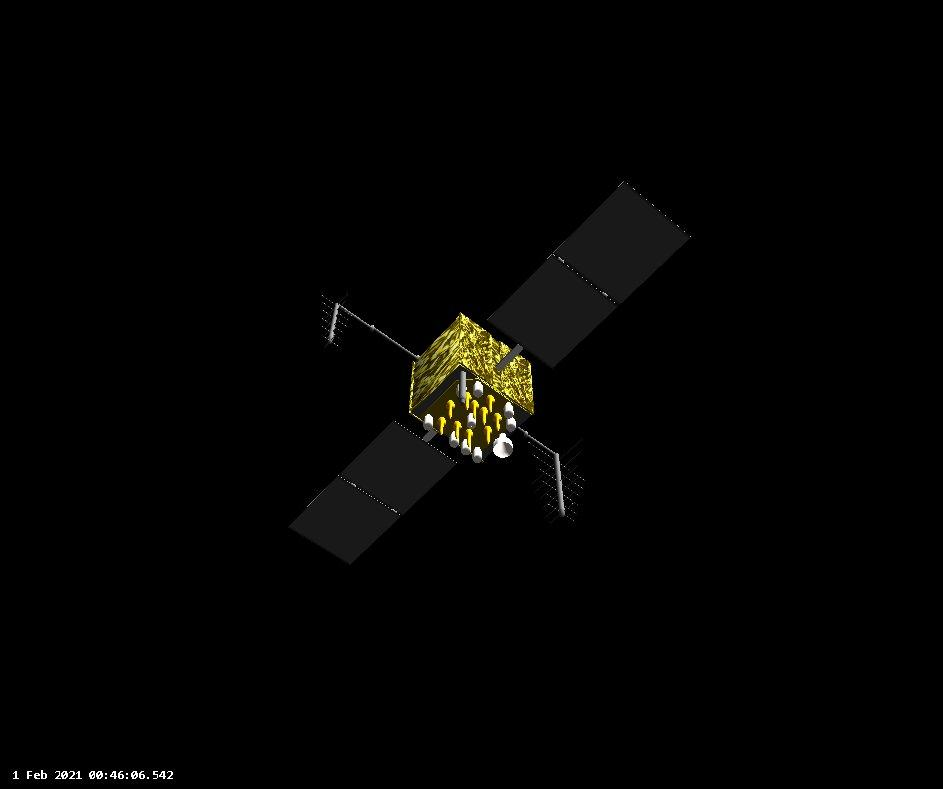antenna: (526, 439, 589, 527), (314, 290, 351, 353)
body: (407, 309, 538, 463)
solar: (484, 171, 696, 380), (286, 411, 459, 570)
thruster: (488, 426, 518, 464)
